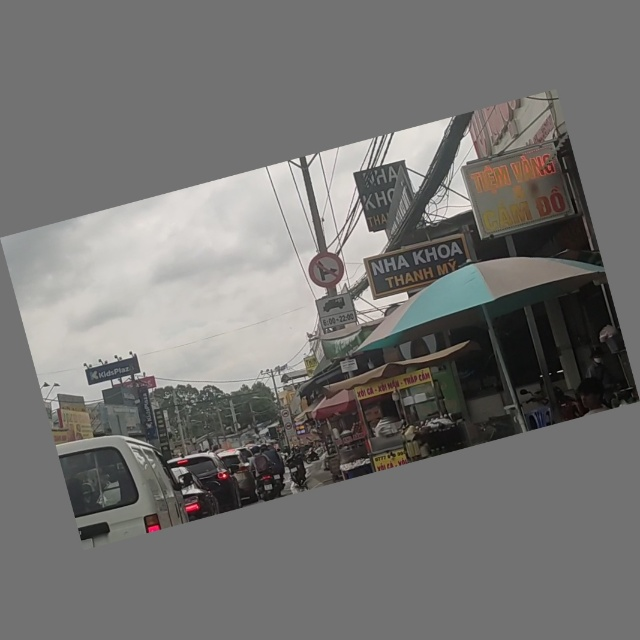P.139: (304, 250, 347, 292)
S.505a*Xe tai: (316, 293, 356, 331)
